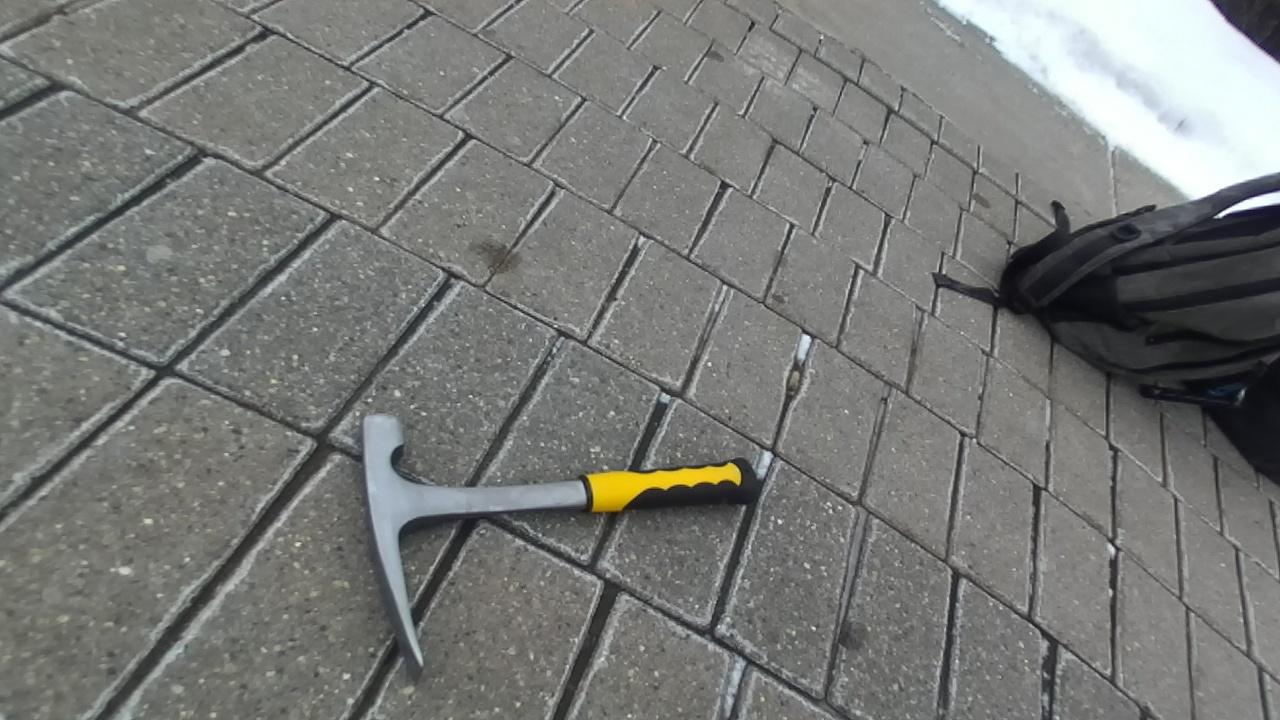pick: (362, 414, 762, 676)
